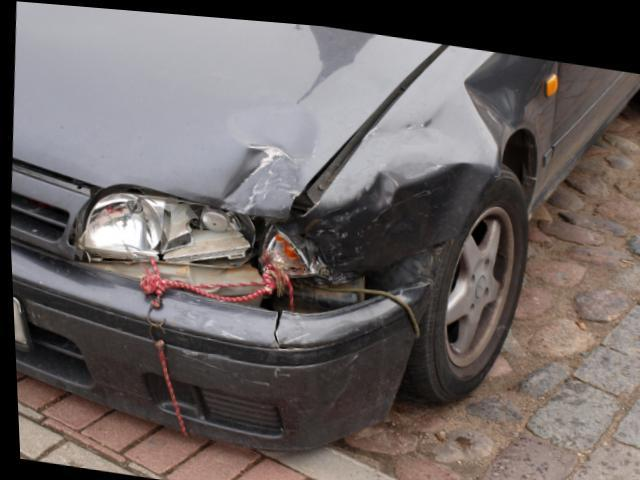crack: (270, 306, 290, 344)
dent: (358, 87, 489, 200), (219, 91, 315, 207)
dislocated part: (93, 239, 449, 444)
lamp broken: (76, 187, 271, 291)
